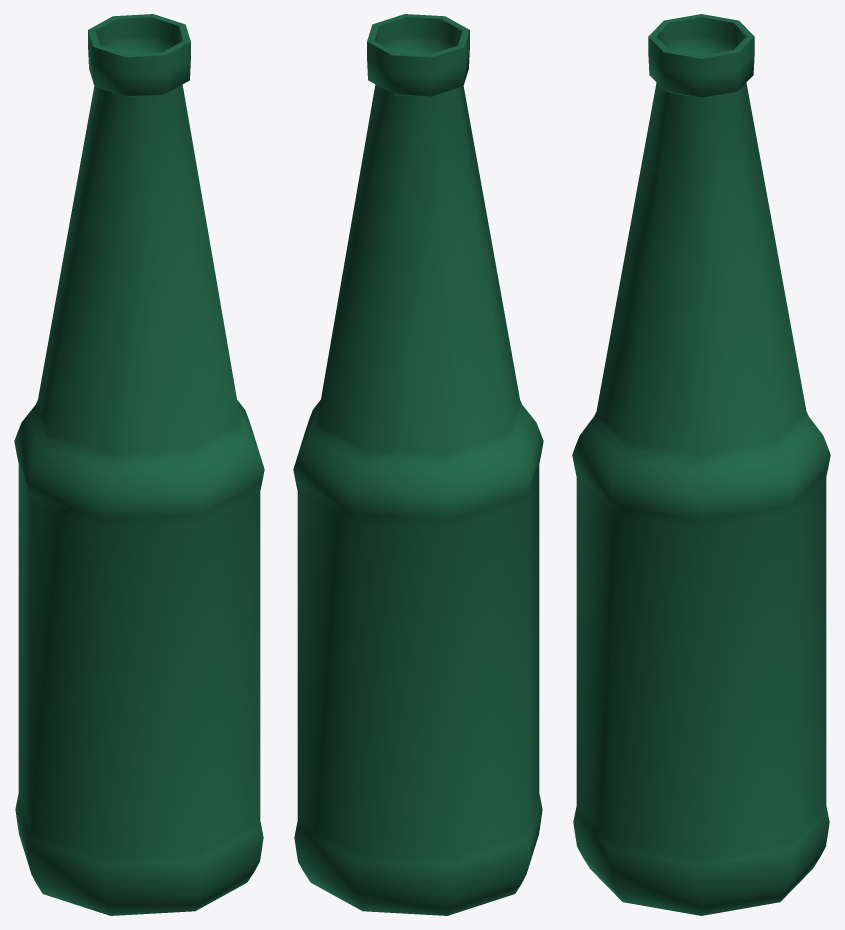
Rendered from Sem4_Prop_Flasche02_JT.fbx.
The picture shows the model from 3 angles, left to right: view 1: azimuth 30°, elevation 25°; view 2: azimuth 150°, elevation 25°; view 3: azimuth 270°, elevation 25°; orthographic projection.
Parts seen in each view (by area): view 1: Flasche; view 2: Flasche; view 3: Flasche.
Boxes of the visible parts, x1=… form: Flasche: x1=14, y1=14, x2=264, y2=915; Flasche: x1=293, y1=14, x2=543, y2=915; Flasche: x1=572, y1=14, x2=830, y2=915.
Size of the model in its own units: 5.07 by 18.03 by 5.07.
